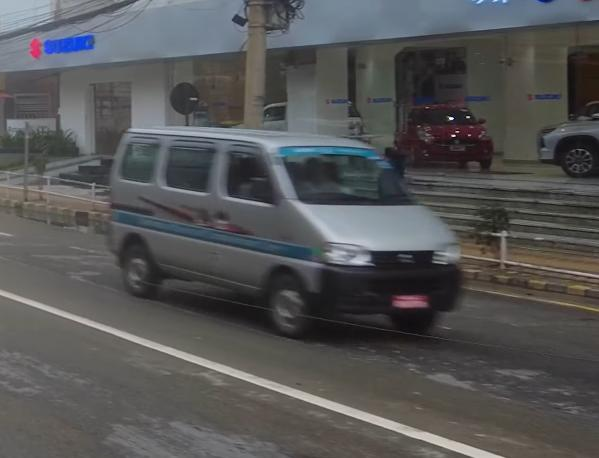car: (399, 101, 500, 176), (537, 107, 599, 179)
van: (105, 116, 461, 337)
